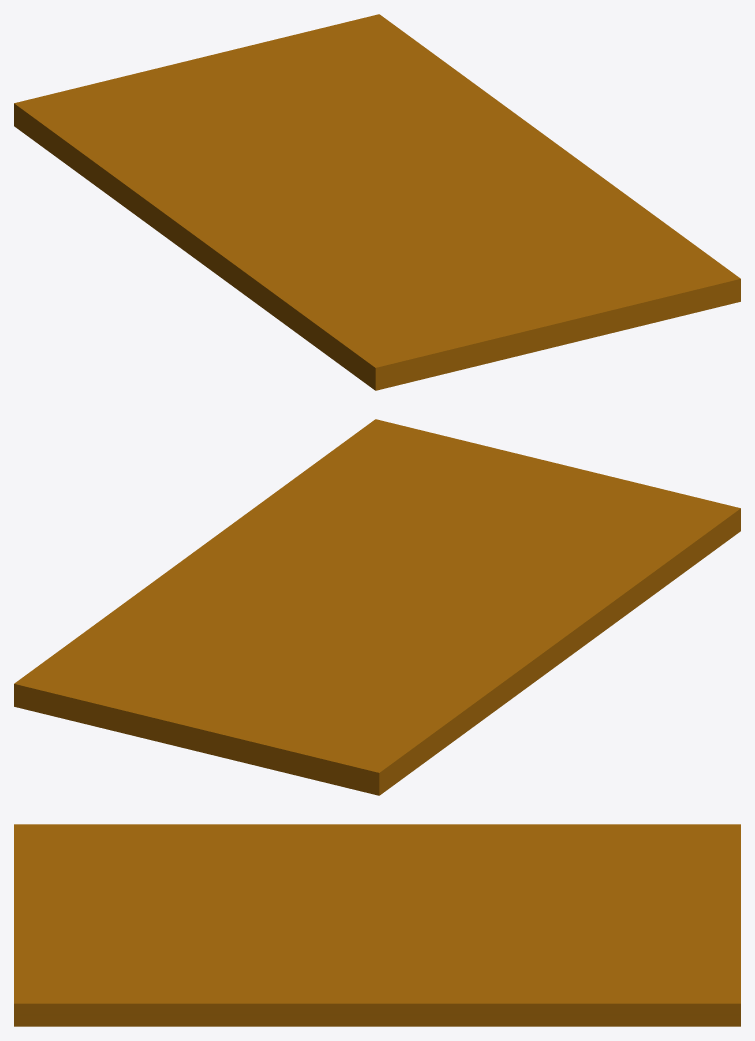
Rendered from drawer_plane_1.glb.
3 views of the same model, one above another, from view 1: azimuth 30°, elevation 25°; view 2: azimuth 150°, elevation 25°; view 3: azimuth 270°, elevation 25° (orthographic).
Parts seen in each view (by area): view 1: Plane 3; view 2: Plane 3; view 3: Plane 3.
Boxes of the visible parts, x1,y1,x2,y2 form: Plane 3: (14,14,740,390); Plane 3: (14,419,740,795); Plane 3: (14,824,740,1026).
Bounding box in the file's own units: 13.53 × 0.8112 × 23.19.
